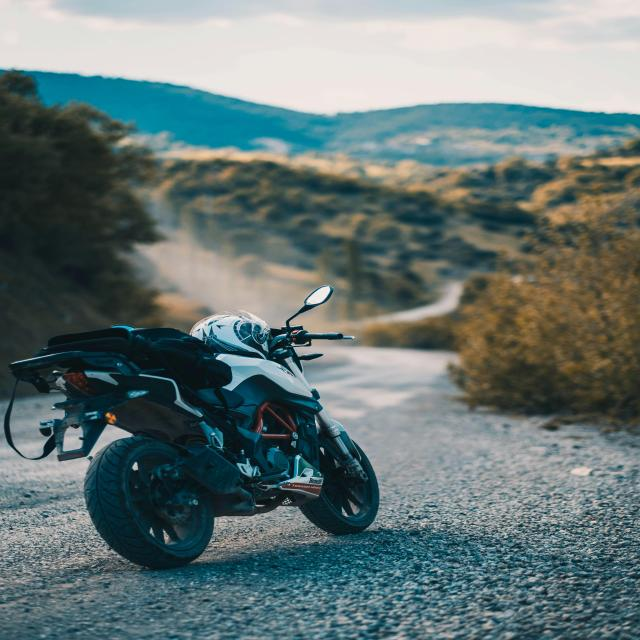Bike: (14, 311, 382, 569)
